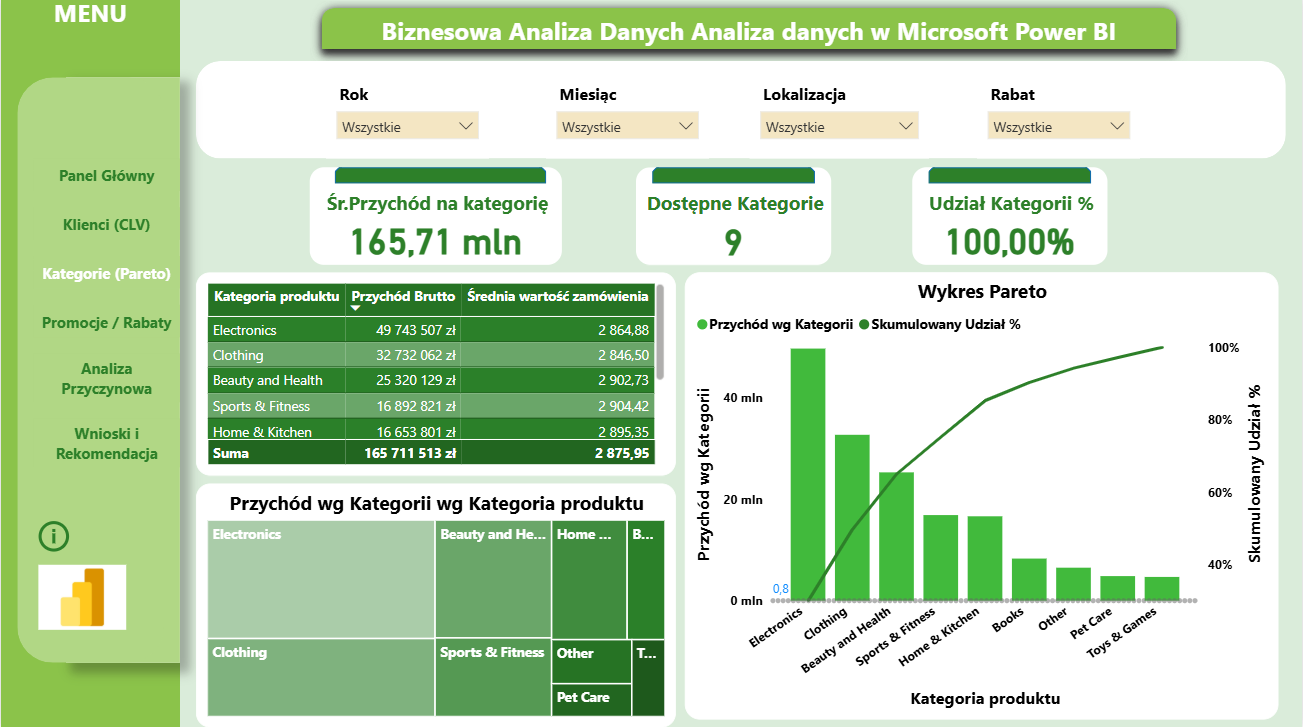

The dashboard page shown, as its layout file describes it:
{"tool":"powerbi","page":{"name":"Kategorie (Pareto)","canvas":[1280,720],"ordinal":3},"visuals":[{"type":"shape","title":"MENU","box":[0,0,176,720],"z":0,"group":"g1"},{"type":"shape","title":"naglowek","box":[304,0,864,64],"z":0},{"type":"actionButton","title":"Wniioski i Rekomendacje","box":[32,352,144,48],"z":0,"group":"g2"},{"type":"shape","title":"filtry","box":[192,64,1072,96],"z":1000},{"type":"shape","title":"boczny pasek2","box":[64,80,112,576],"z":1000,"group":"g1"},{"type":"actionButton","title":"insight","box":[32,416,144,48],"z":1000,"group":"g2"},{"type":"shape","title":"boczny pasek1","box":[16,80,144,576],"z":2000,"group":"g1"},{"type":"slicer","title":"miesiac","fields":{"Values":["Kalendarz.MonthName"]},"box":[536,80,160,80],"z":2000},{"type":"actionButton","title":"promocje i rabaty","box":[32,304,144,32],"z":2000,"group":"g2"},{"type":"slicer","title":"rok","fields":{"Values":["Kalendarz.Year"]},"box":[320,80,160,80],"z":3000},{"type":"actionButton","title":"Pereto","box":[32,256,144,32],"z":3000,"group":"g2"},{"type":"image","title":"logo","box":[32,544,96,96],"z":3000,"group":"g1"},{"type":"group","id":"g1","title":"Menu","box":[0,0,176,720],"z":4000},{"type":"group","id":"g2","title":"strony","box":[32,160,144,392],"z":4000,"group":"g1"},{"type":"actionButton","title":"klienci","box":[32,208,144,32],"z":4000,"group":"g2"},{"type":"slicer","title":"Rabat","fields":{"Values":["Rabat.Discount Availed"]},"box":[960,80,160,80],"z":5000},{"type":"actionButton","title":"Panel","box":[32,160,144,32],"z":5000,"group":"g2"},{"type":"slicer","title":"Rabat","fields":{"Values":["Lokalizacja.Lokalizacja"]},"box":[736,80,176,80],"z":6000},{"type":"actionButton","title":"info","box":[32,512,40,40],"z":6000,"group":"g2"},{"type":"card","title":"Śr.Przychód na kategorię","fields":{"Values":["Sprzedaz.Przychód wg Kategorii"]},"box":[304,168,248,96],"z":7000},{"type":"card","title":"Dostępne Kategorie","fields":{"Values":["Produkt.Liczba Unikalnych Kategorii"]},"box":[624,168,192,96],"z":8000},{"type":"card","title":"Udział Kategorii %","fields":{"Values":["Sprzedaz.Udział Kategorii %"]},"box":[896,168,192,96],"z":9000},{"type":"shape","box":[328,168,208,16],"z":10000},{"type":"shape","box":[912,168,160,16],"z":11000},{"type":"shape","box":[640,168,160,16],"z":12000},{"type":"lineStackedColumnComboChart","title":"Wykres Pareto","fields":{"Category":["Produkt.Kategoria produktu"],"Y":["Sprzedaz.Przychód wg Kategorii"],"Y2":["Sprzedaz.Skumulowany Udział %"]},"box":[672,272,584,440],"z":13000},{"type":"treemap","fields":{"Group":["Produkt.Kategoria produktu"],"Values":["Sprzedaz.Przychód wg Kategorii"]},"box":[192,480,472,240],"z":14000},{"type":"tableEx","fields":{"Values":["Produkt.Kategoria produktu","Sprzedaz.Przychód Brutto","Sprzedaz.Średnia wartość zamówienia"]},"box":[192,272,472,200],"z":15000}]}

Visuals, with their boxes in screenshot pixels (x1, y1, x2, y2), scaled from the page's 1280x720 canvas onto the 1303x727 screenshot:
"MENU" shape: 0 0 179 726
"naglowek" shape: 309 0 1189 65
"Wniioski i Rekomendacje" actionButton: 33 355 179 404
"filtry" shape: 195 65 1287 162
"boczny pasek2" shape: 65 81 179 662
"insight" actionButton: 33 420 179 469
"boczny pasek1" shape: 16 81 163 662
"miesiac" slicer: 546 81 709 162
"promocje i rabaty" actionButton: 33 307 179 339
"rok" slicer: 326 81 489 162
"Pereto" actionButton: 33 258 179 291
"logo" image: 33 549 130 646
"Menu" group: 0 0 179 726
"strony" group: 33 162 179 557
"klienci" actionButton: 33 210 179 242
"Rabat" slicer: 977 81 1140 162
"Panel" actionButton: 33 162 179 194
"Rabat" slicer: 749 81 928 162
"info" actionButton: 33 517 73 557
"Śr.Przychód na kategorię" card: 309 170 562 267
"Dostępne Kategorie" card: 635 170 831 267
"Udział Kategorii %" card: 912 170 1108 267
shape: 334 170 546 186
shape: 928 170 1091 186
shape: 652 170 814 186
"Wykres Pareto" lineStackedColumnComboChart: 684 275 1279 719
treemap - Produkt.Kategoria produktu x Sprzedaz.Przychód wg Kategorii: 195 485 676 726
tableEx - Produkt.Kategoria produktu x Sprzedaz.Przychód Brutto: 195 275 676 477
